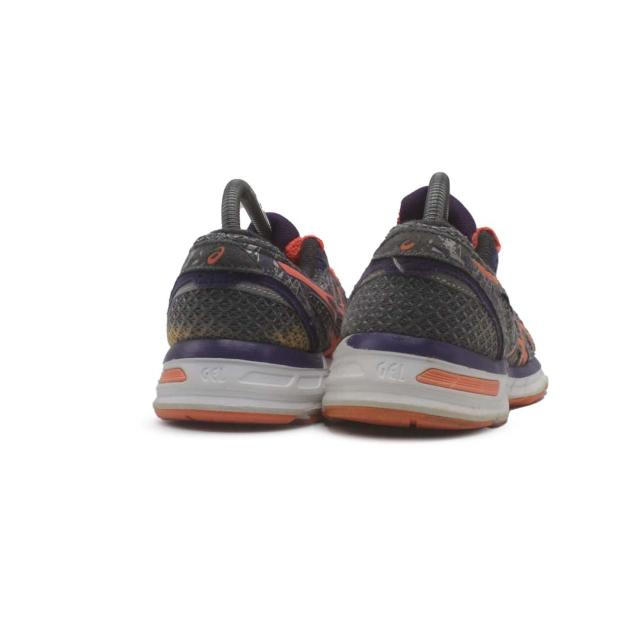heel: (340, 225, 499, 359), (165, 234, 322, 350)
midsole: (317, 334, 550, 429), (154, 339, 327, 421)
